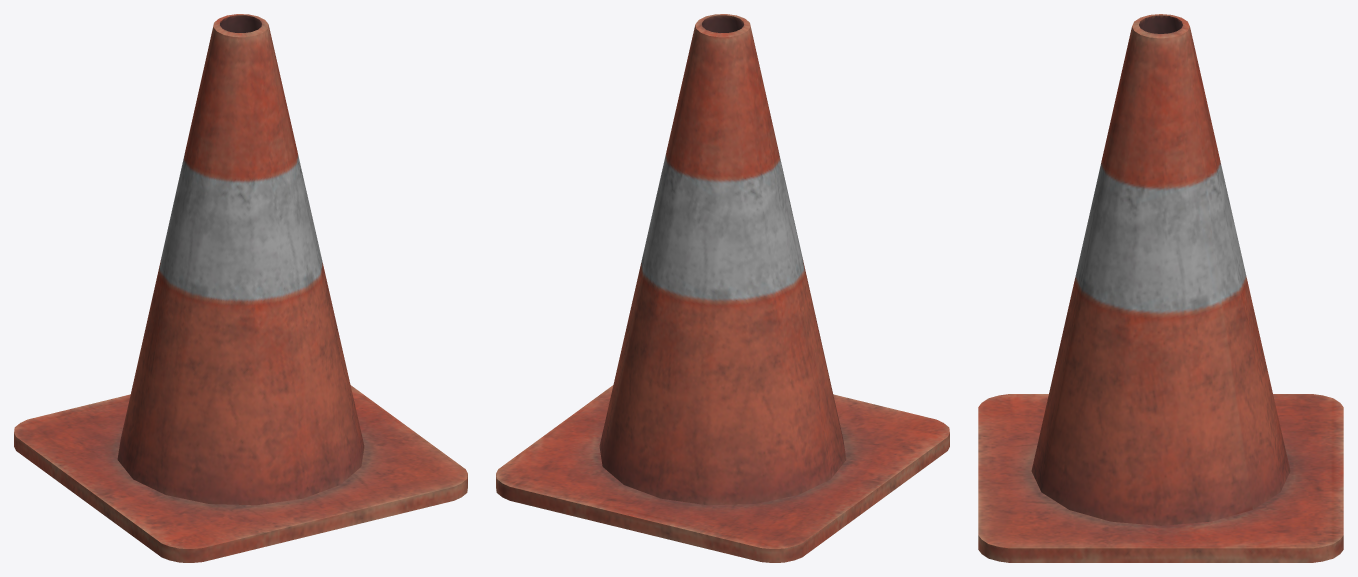
Rendered from 01_Cone_obstacle_B2.glb.
3 views of the same model, side by side, from view 1: azimuth 30°, elevation 25°; view 2: azimuth 150°, elevation 25°; view 3: azimuth 270°, elevation 25° (orthographic). The views are drawn at different scales.
Parts seen in each view (by area): view 1: Cone_obstacle_B2; view 2: Cone_obstacle_B2; view 3: Cone_obstacle_B2.
Boxes of the visible parts, x1=… form: Cone_obstacle_B2: x1=14, y1=14, x2=467, y2=562; Cone_obstacle_B2: x1=496, y1=14, x2=949, y2=562; Cone_obstacle_B2: x1=978, y1=14, x2=1343, y2=562.
Size of the model in its own units: 0.4171 by 0.5805 by 0.4171.
1 material, 1 textured.
